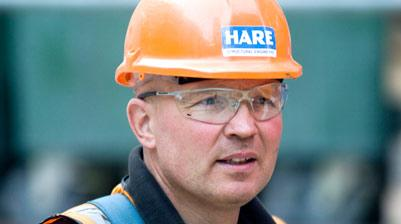helmet: (115, 1, 305, 90)
